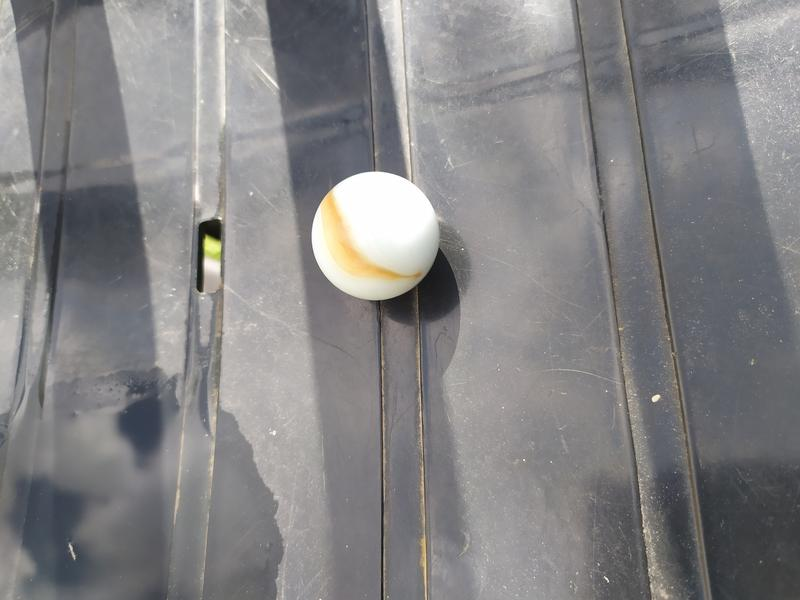Warning: (308, 169, 444, 304)
